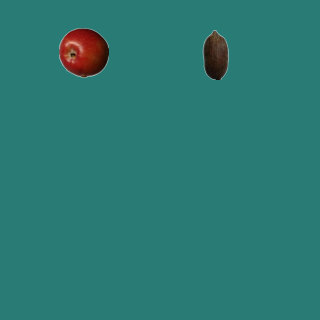Apple Braeburn: (58, 27, 108, 77)
Nut Pecan: (190, 29, 240, 79)
